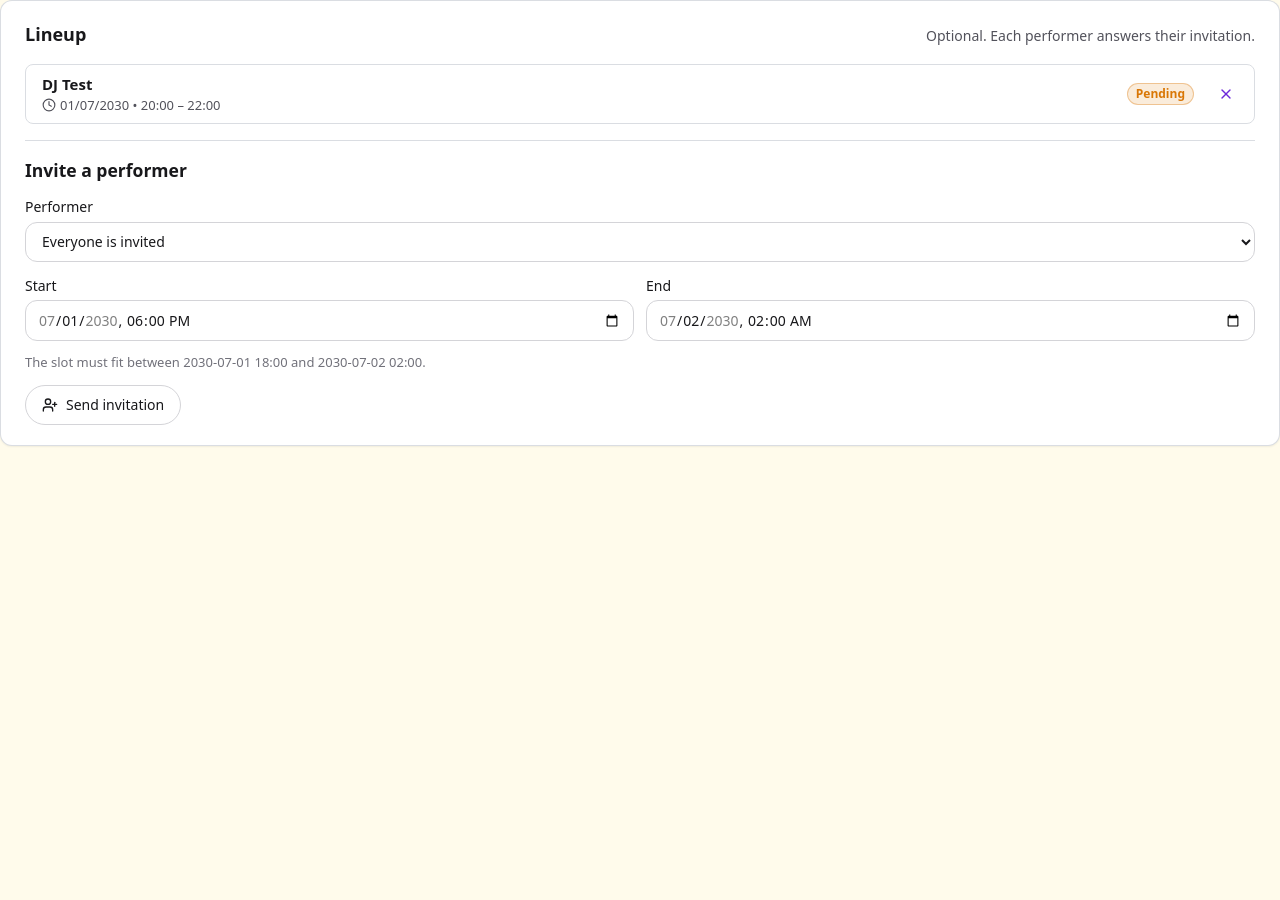
LineupSection › reports a failed withdrawal
This screenshot has width=1280, height=900.
Click the button named "Remove DJ Test from the lineup" at (1226, 94), box [1206,78,1246,110]
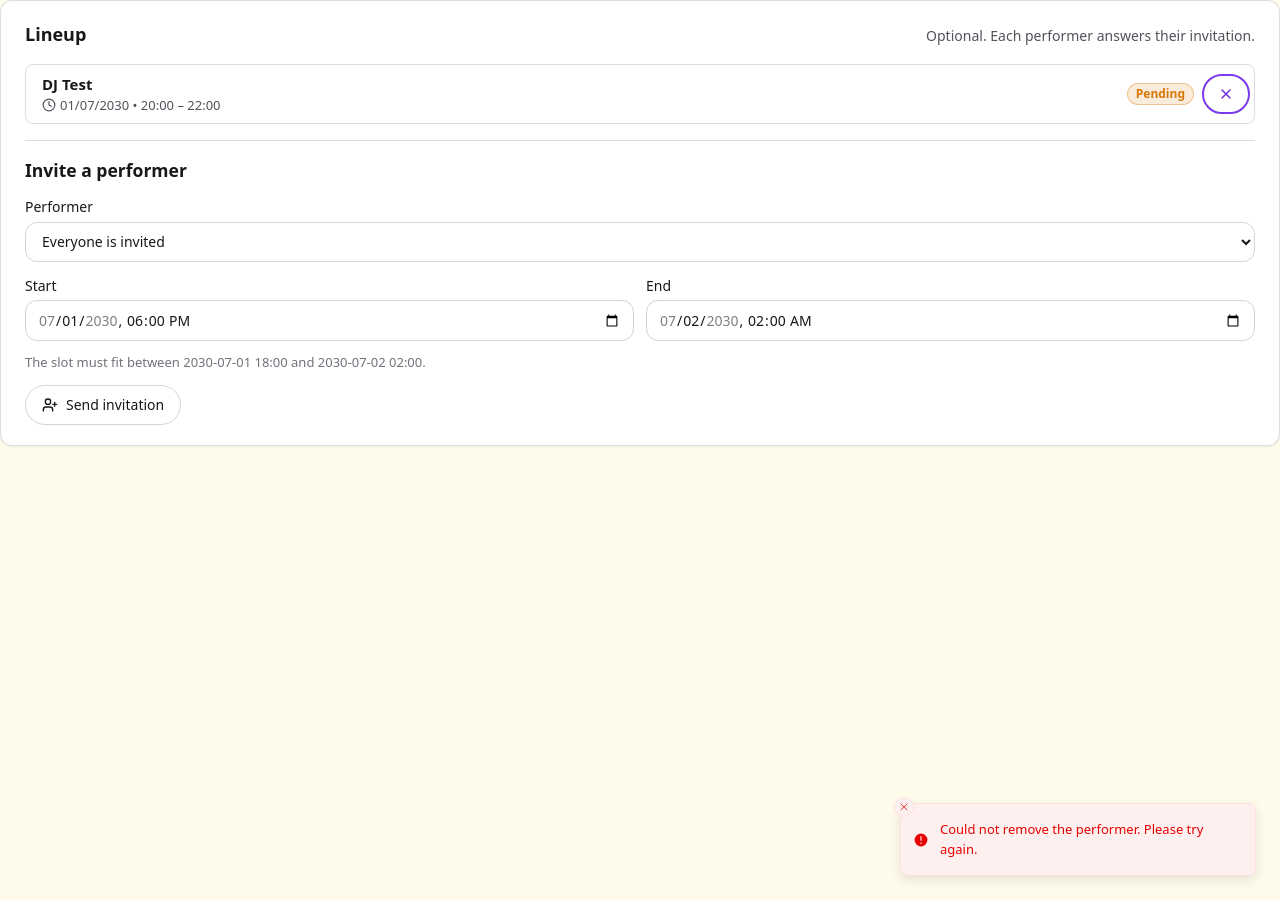
Now the text "Could not remove the performer. Please try again." is shown, box [940,820,1239,859]
